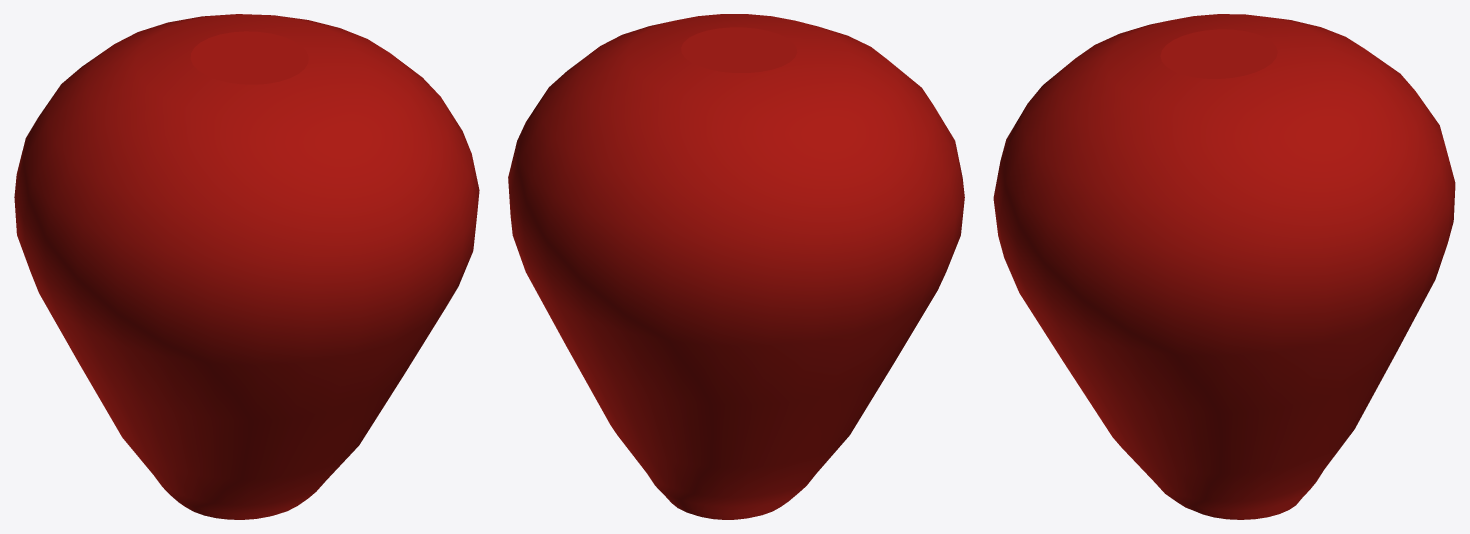
File: chemical_DropperH1.FBX
3 views of the same model, side by side, from view 1: azimuth 30°, elevation 25°; view 2: azimuth 150°, elevation 25°; view 3: azimuth 270°, elevation 25° (orthographic).
Visible parts, largest first — view 1: chemical_Dropper001; view 2: chemical_Dropper001; view 3: chemical_Dropper001.
Part boxes in pixels (<box>): chemical_Dropper001: <box>14,14,479,519</box>; chemical_Dropper001: <box>508,14,964,519</box>; chemical_Dropper001: <box>993,14,1455,519</box>.
Size of the model in its own units: 0.4574 by 0.5023 by 0.4571.
